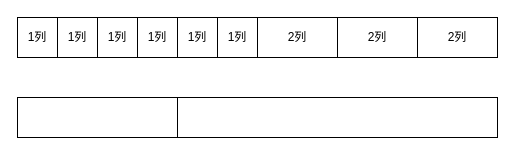
This 515x155 diagram has some shape labels left out. Here are the shapes that lost their labels. From the top down, the centre of each, then its label:
At pixel 97 117: "4列".
At pixel 337 117: "8列".
